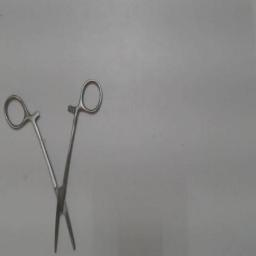Mayo Needle Holder: (2, 75, 106, 255)
